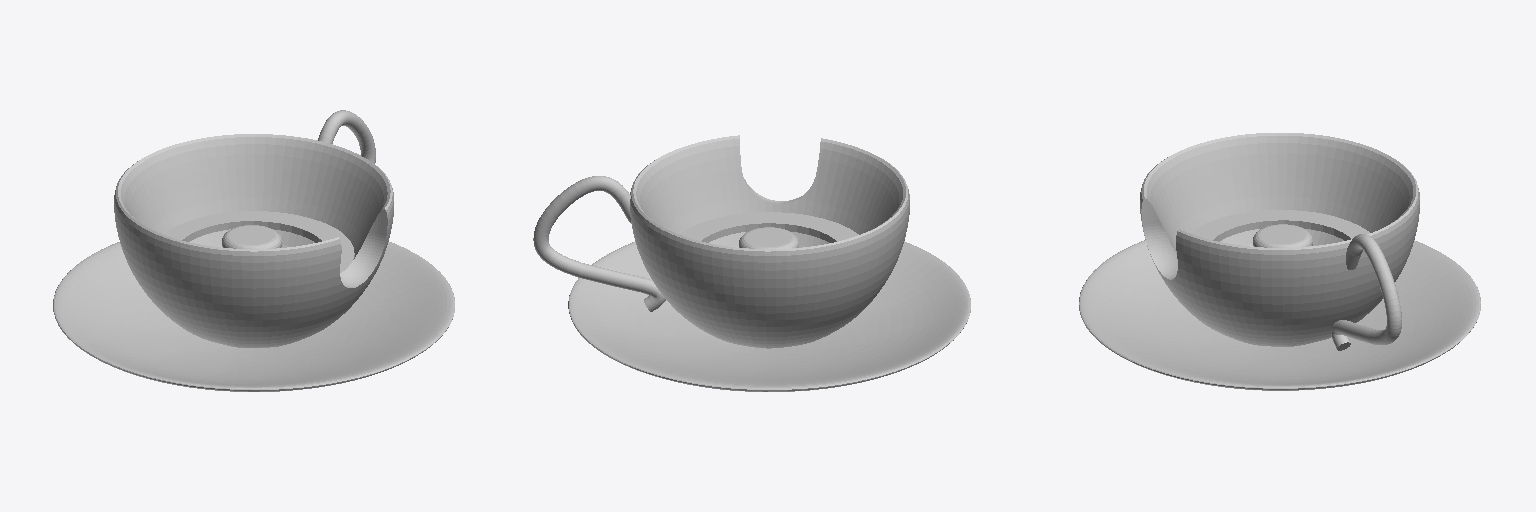
Rendered from TeaCup6.obj.
3 views of the same model, side by side, from view 1: azimuth 30°, elevation 25°; view 2: azimuth 150°, elevation 25°; view 3: azimuth 270°, elevation 25° (orthographic).
Size of the model in its own units: 107 by 46.94 by 106.